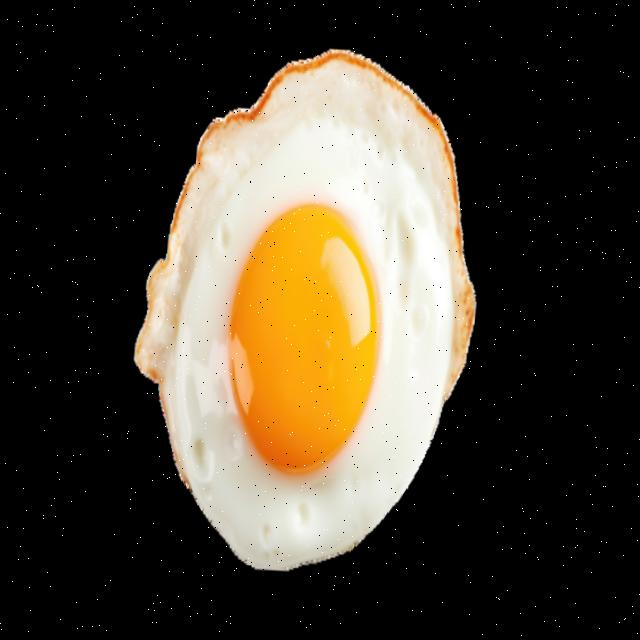Egg: (139, 49, 477, 567)
